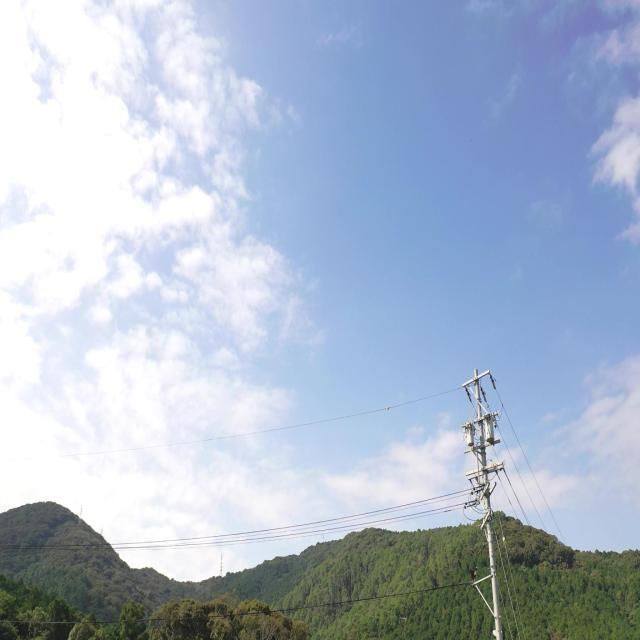Birds: (468, 565, 479, 583)
